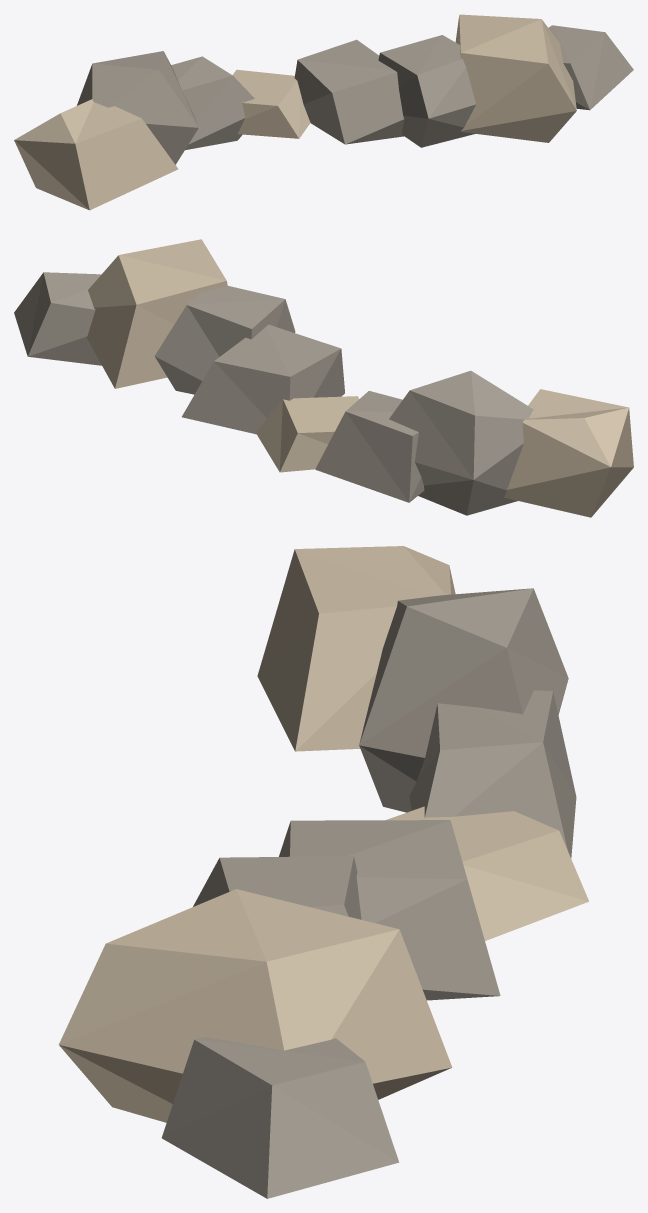
The model's file is shore_stones_set.fbx.
3 views of the same model, one above another, from view 1: azimuth 30°, elevation 25°; view 2: azimuth 150°, elevation 25°; view 3: azimuth 270°, elevation 25° (orthographic). The views are drawn at different scales.
Visible parts, largest first — view 1: shore_stones_set; view 2: shore_stones_set; view 3: shore_stones_set.
Boxes of the visible parts, <box> form: shore_stones_set: <box>14,14,633,210</box>; shore_stones_set: <box>14,239,633,517</box>; shore_stones_set: <box>58,546,588,1198</box>.
Bounding box in the file's own units: 2.5 × 0.4 × 1.
